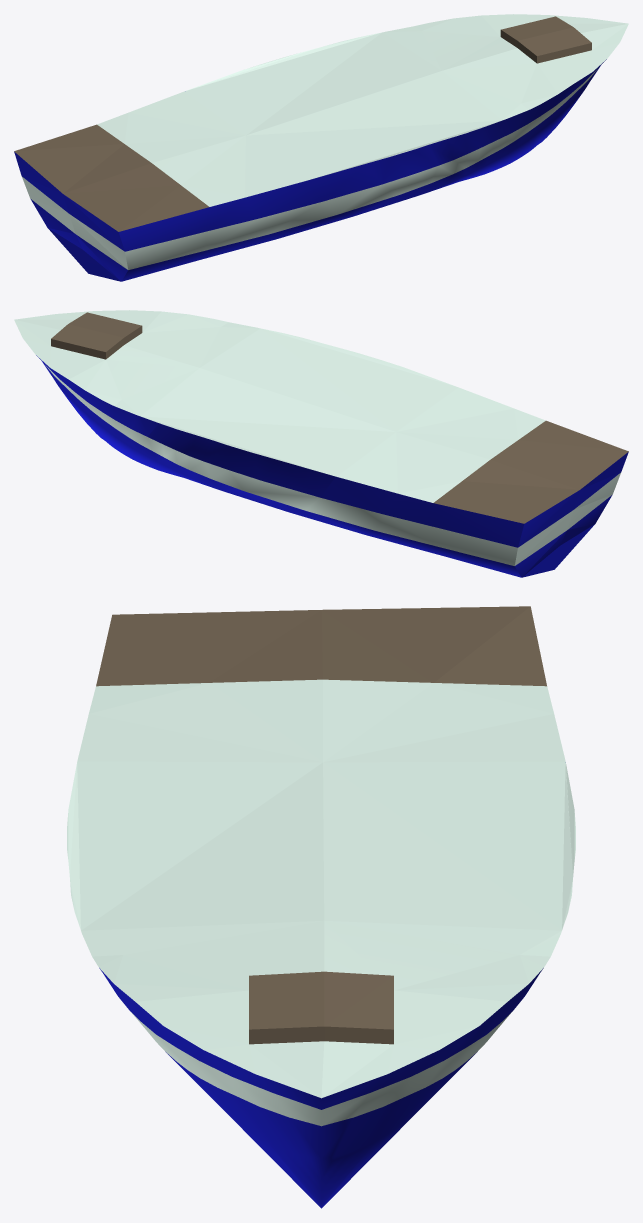
File: boat.obj
3 renders of one model, top to bottom at view 1: azimuth 30°, elevation 25°; view 2: azimuth 150°, elevation 25°; view 3: azimuth 270°, elevation 25°, orthographic. The views are drawn at different scales.
Parts seen in each view (by area): view 1: center_r_link; view 2: center_r_link; view 3: center_r_link.
Part boxes in pixels (left/top/right/bottom): center_r_link: left=14, top=14, right=628, bottom=281; center_r_link: left=14, top=310, right=628, bottom=577; center_r_link: left=67, top=606, right=575, bottom=1208.
Size of the model in its own units: 5.2 by 1.13 by 2.02.
